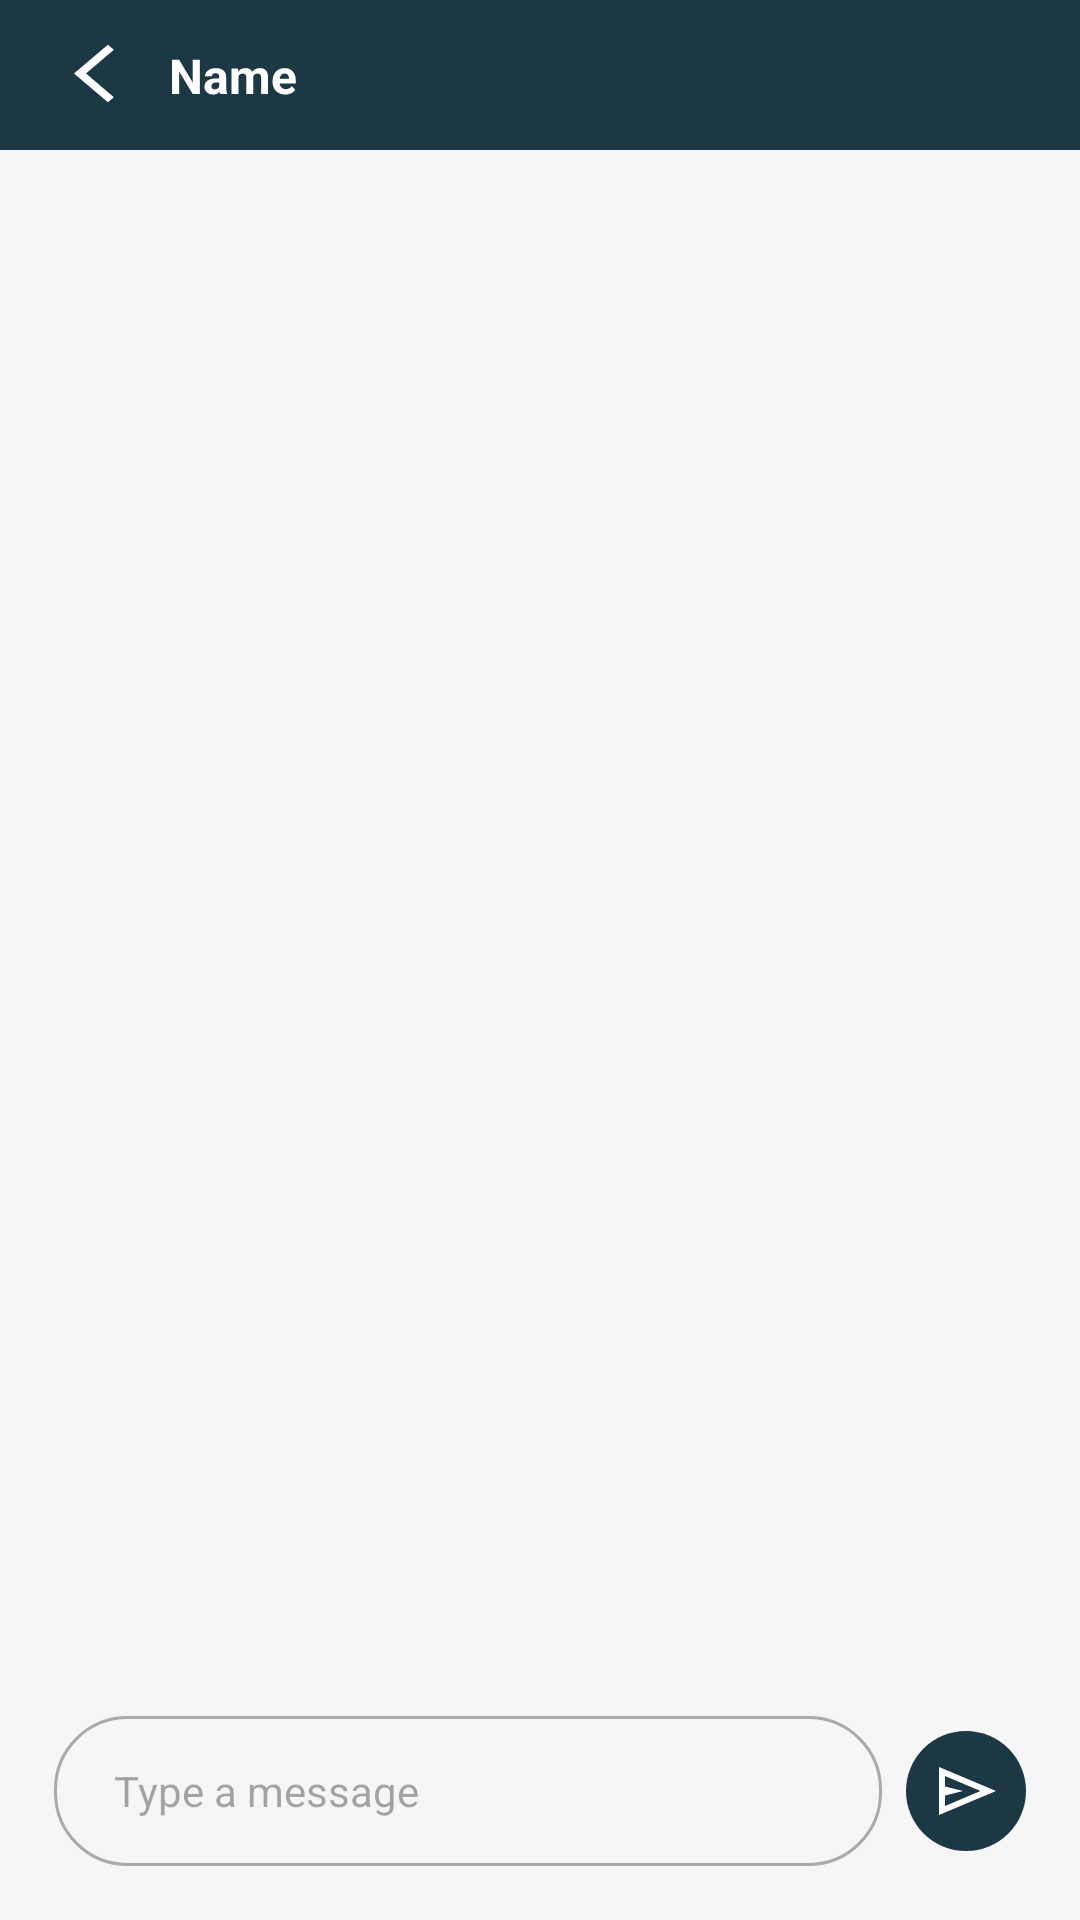

Where icons sit on this 1080px x 1920px app screen, as bbox=[x1, y1, x2, y2]:
arrow back: bbox=[74, 45, 114, 102]
Send: bbox=[906, 1731, 1026, 1851]
